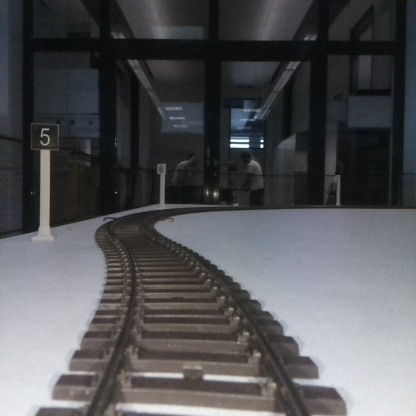black-info-5: (32, 124, 58, 239)
white-info-6: (157, 162, 166, 209)
